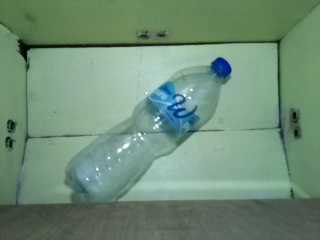bottle: (62, 56, 234, 204)
